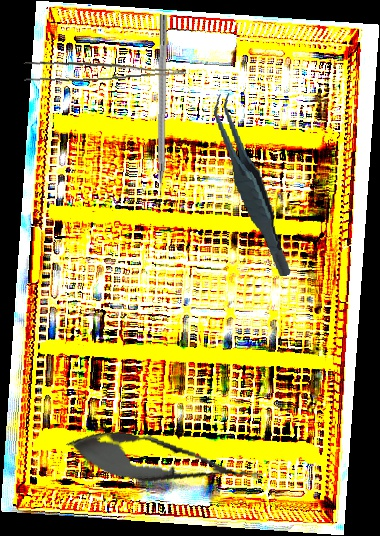Hook Surgical: (154, 14, 169, 214)
Micro Scissor: (62, 421, 269, 502)
Tissue Forceps: (211, 87, 292, 283), (22, 51, 187, 86)
